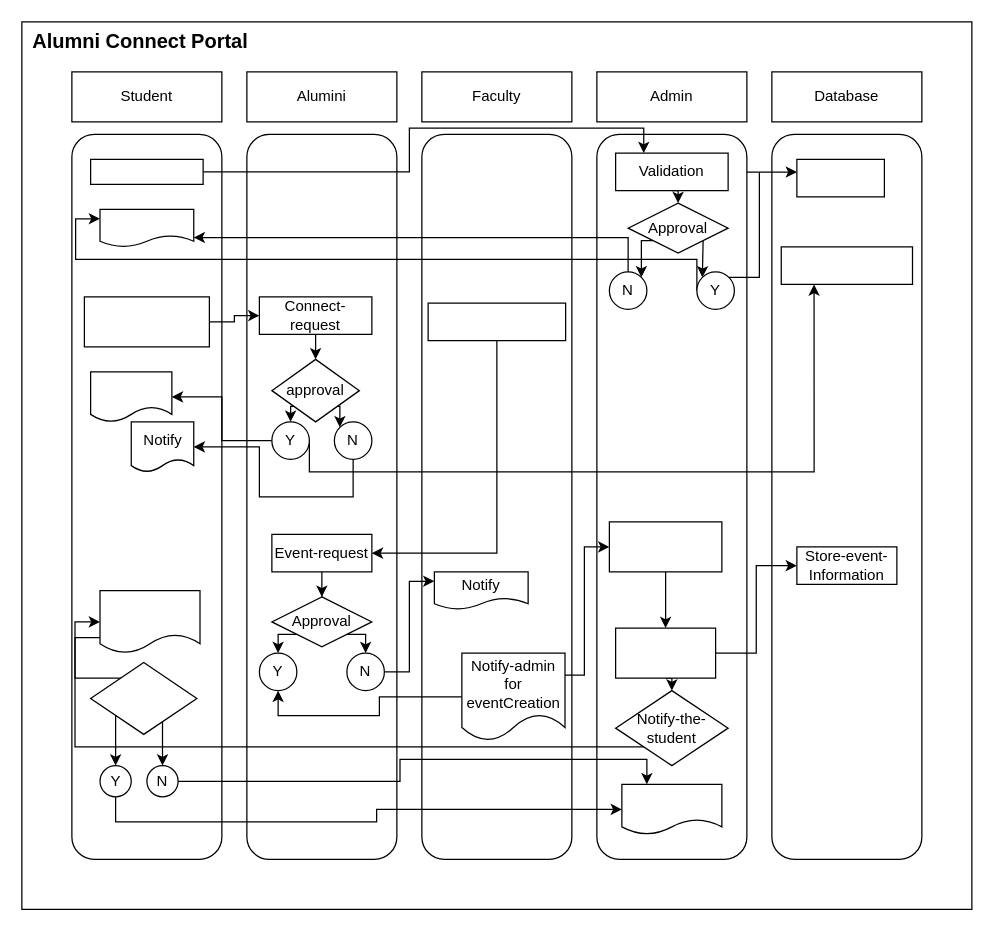
This 994x931 diagram has some shape labels left out. Each missing label, with the centre of its shape:
"Attend-event" goes at (x=143, y=697).
"Attende-Status" goes at (x=671, y=808).
"Event" goes at (x=496, y=321).
"Event-Creation" goes at (x=665, y=546).
"Event-Notification" goes at (x=149, y=621).
"initiate-connnection" goes at (x=146, y=321).
"Notification" goes at (x=146, y=227).
"Registration" goes at (x=146, y=171).
"Schedule-event" goes at (x=665, y=652).
"Start messaging" goes at (x=130, y=396).
"Store user data" goes at (x=840, y=177).
"Update-user Connections" goes at (x=846, y=265).
